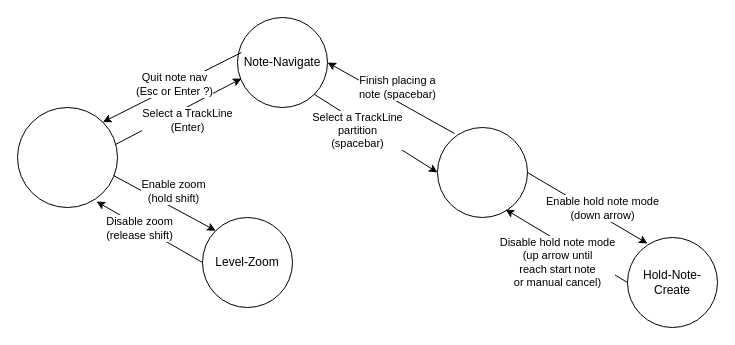
The diagram is 735 pixels wide and 345 high, and some of its shapes have lost their labels. Here are the shapes that lost their labels. From the top down, the centre of each, then its label:
[67,157]: Level-Navigate
[482,172]: Note-Create
